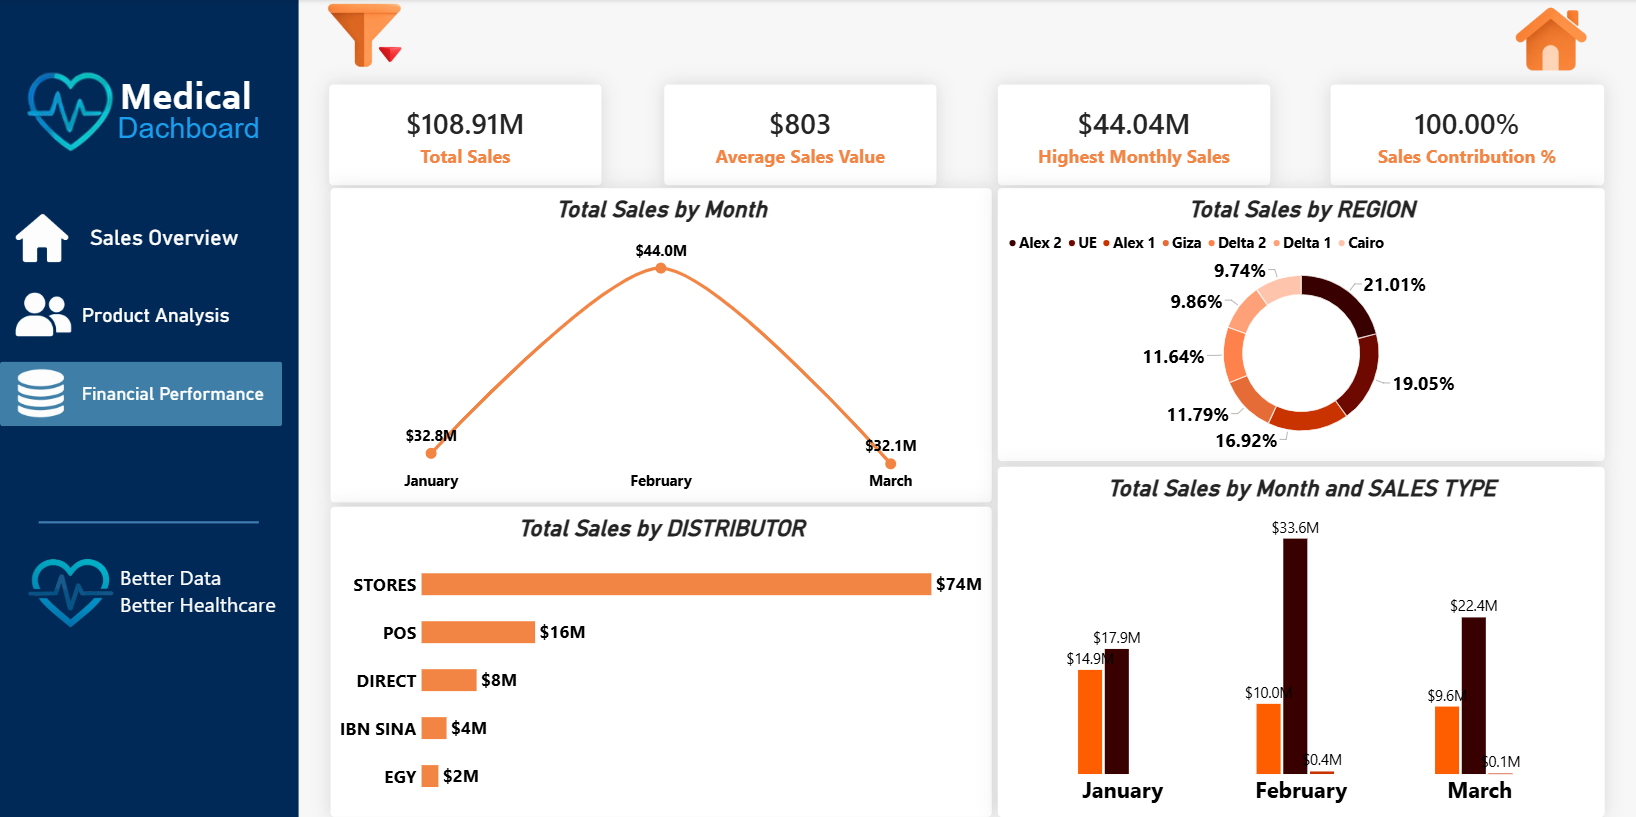

The dashboard page shown, as its layout file describes it:
{"tool":"powerbi","page":{"name":"Financial Performance","canvas":[3000,1500],"ordinal":3},"visuals":[{"type":"actionButton","box":[0,0,547.2,1500.5],"z":0},{"type":"image","box":[47.9,131.1,166.4,151.3],"z":1000},{"type":"textbox","box":[219.4,133.7,259.8,88.3],"z":2000},{"type":"textbox","box":[214.4,206.8,269.8,90.8],"z":3000},{"type":"actionButton","box":[0,378.3,517,118.5],"z":4000},{"type":"actionButton","box":[0,520.8,517,118.5],"z":5000},{"type":"actionButton","box":[0,663.3,517,118.5],"z":6000},{"type":"image","box":[27.7,390.9,103.4,95.8],"z":7000},{"type":"image","box":[25.2,532.1,111,95.8],"z":8000},{"type":"image","box":[18.8,672.9,111,95.8],"z":9000},{"type":"shape","box":[70.9,929.3,403.5,58],"z":10000},{"type":"image","box":[0,973.4,259.8,221.9],"z":11000},{"type":"textbox","box":[219.4,1034,302.6,108.4],"z":12000},{"type":"card","fields":{"Values":["Table.Sales Contribution %"]},"box":[2437.9,156,503,186.3],"z":13000},{"type":"card","fields":{"Values":["Table.Total Sales"]},"box":[603.1,156,500.6,186.3],"z":14000},{"type":"card","fields":{"Values":["Table.Average Sales Value"]},"box":[1215.5,156,500.6,186.3],"z":15000},{"type":"card","fields":{"Values":["Table.Highest Monthly Sales"]},"box":[1827.9,156,500.6,186.3],"z":16000},{"type":"lineChart","fields":{"Category":["Sales Performance.Month.Variation.Date Hierarchy.Month"],"Y":["Table.Total Sales"]},"box":[604,346.6,1213.2,577.7],"z":17000},{"type":"barChart","fields":{"Category":["Sales Performance.DISTRIBUTOR"],"Y":["Table.Total Sales"]},"box":[604,929.6,1213.2,569.9],"z":18000},{"type":"donutChart","fields":{"Category":["Sales Performance.REGION"],"Y":["Table.Total Sales"]},"box":[1827.7,346.6,1113.5,501.6],"z":19000},{"type":"clusteredColumnChart","fields":{"Category":["Sales Performance.Month.Variation.Date Hierarchy.Month"],"Series":["Sales Performance.SALES TYPE"],"Y":["Table.Total Sales"]},"box":[1827.7,856.1,1113.5,643.4],"z":20000},{"type":"image","box":[599,0,139.6,132.3],"z":20005},{"type":"image","box":[2766.5,2.3,150,131.3],"z":20006}]}

Visuals, with their boxes in screenshot pixels (x1, y1, x2, y2), scaled from the page's 3000x1500 canvas onto the 1636x817 screenshot:
actionButton: [0,0,298,816]
image: [26,71,117,154]
textbox: [120,73,261,121]
textbox: [117,113,264,162]
actionButton: [0,206,282,271]
actionButton: [0,284,282,348]
actionButton: [0,361,282,426]
image: [15,213,71,265]
image: [14,290,74,342]
image: [10,367,71,419]
shape: [39,506,259,538]
image: [0,530,142,651]
textbox: [120,563,285,622]
card - Table.Sales Contribution %: [1329,85,1604,186]
card - Table.Total Sales: [329,85,602,186]
card - Table.Average Sales Value: [663,85,936,186]
card - Table.Highest Monthly Sales: [997,85,1270,186]
lineChart - Sales Performance.Month.Variation.Date Hierarchy.Month x Table.Total Sales: [329,189,991,503]
barChart - Sales Performance.DISTRIBUTOR x Table.Total Sales: [329,506,991,816]
donutChart - Sales Performance.REGION x Table.Total Sales: [997,189,1604,462]
clusteredColumnChart - Sales Performance.Month.Variation.Date Hierarchy.Month x Sales Performance.SALES TYPE: [997,466,1604,816]
image: [327,0,403,72]
image: [1509,1,1590,73]
